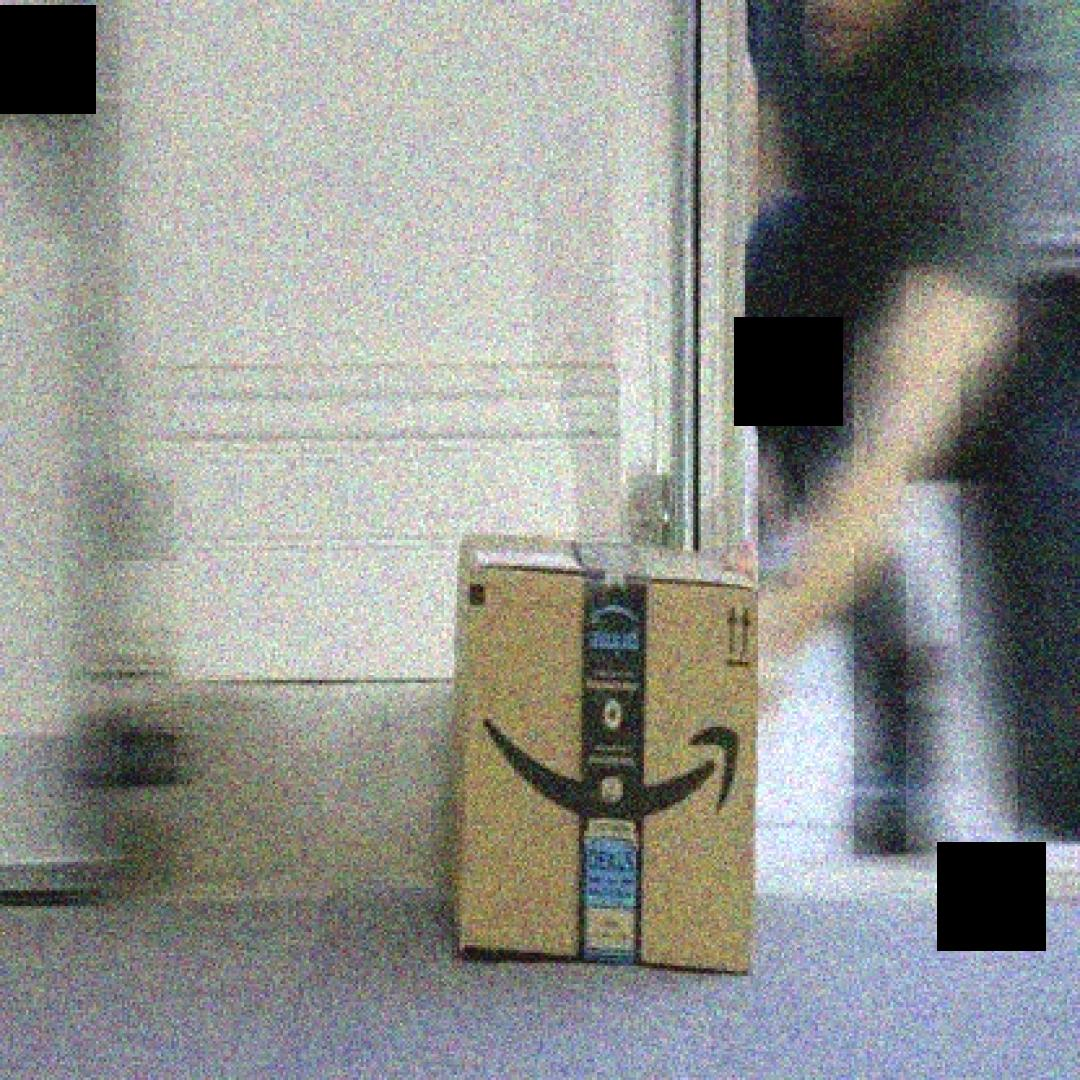package: (447, 535, 760, 979)
